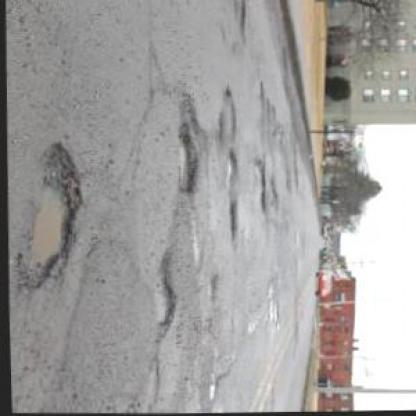pothole: (20, 140, 84, 294), (148, 251, 176, 330), (172, 123, 200, 197), (255, 164, 268, 216), (222, 150, 237, 194), (226, 198, 240, 244)
